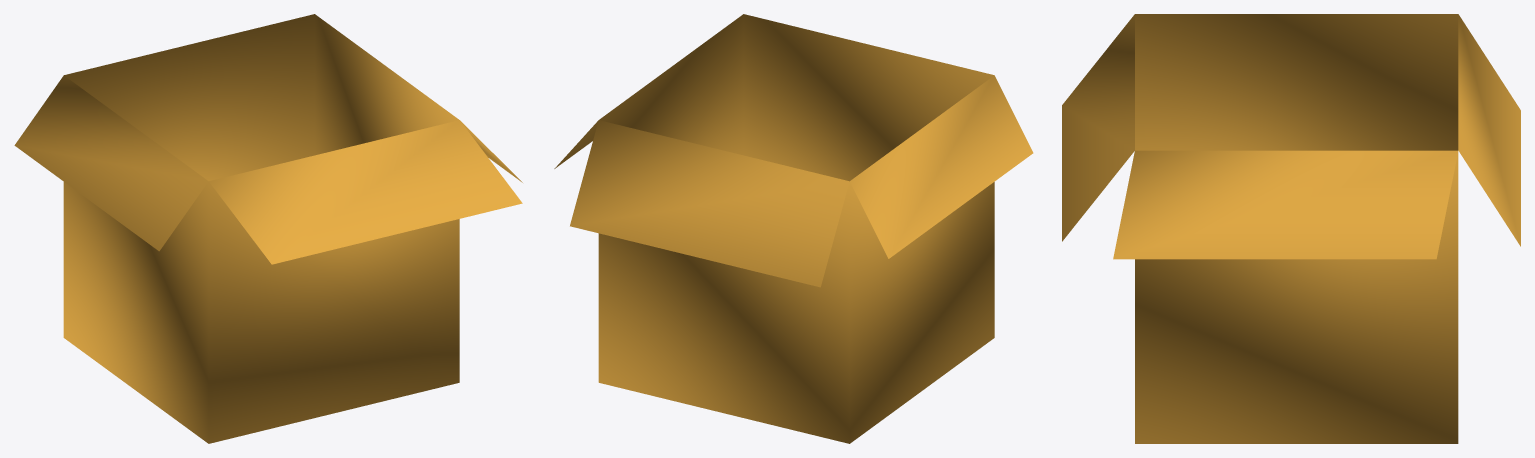
Rendered from caja_carton_final.glb.
The picture shows the model from 3 angles, left to right: view 1: azimuth 30°, elevation 25°; view 2: azimuth 150°, elevation 25°; view 3: azimuth 270°, elevation 25°; orthographic projection. The views are drawn at different scales.
Visible parts, largest first — view 1: Cube; view 2: Cube; view 3: Cube.
Part boxes in pixels (bbox=[...]): Cube: bbox=[14, 14, 522, 443]; Cube: bbox=[554, 14, 1033, 443]; Cube: bbox=[1062, 14, 1520, 443].
Bounding box in the file's own units: 1.18 × 0.8476 × 1.2.
